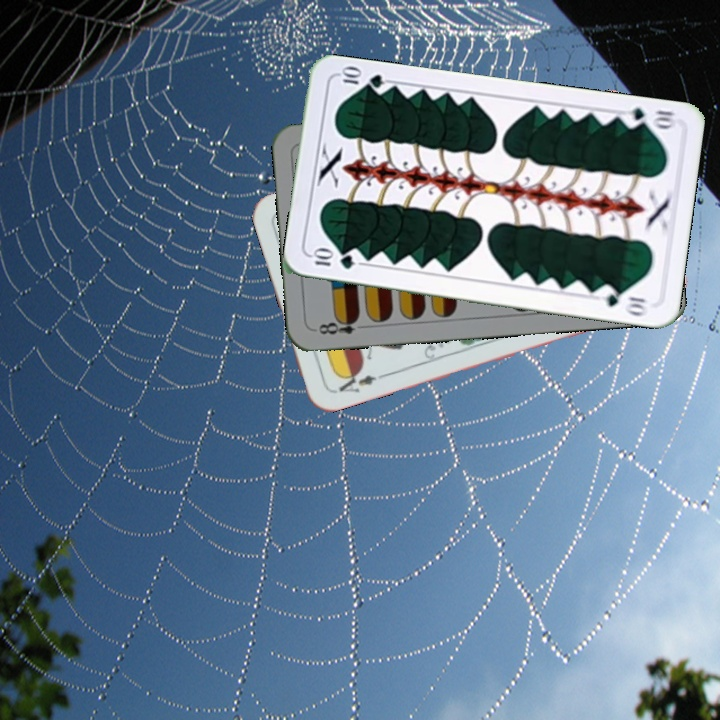E8: (314, 313, 370, 337)
EA: (334, 366, 387, 396)
G10: (618, 103, 679, 132), (308, 247, 358, 272)
